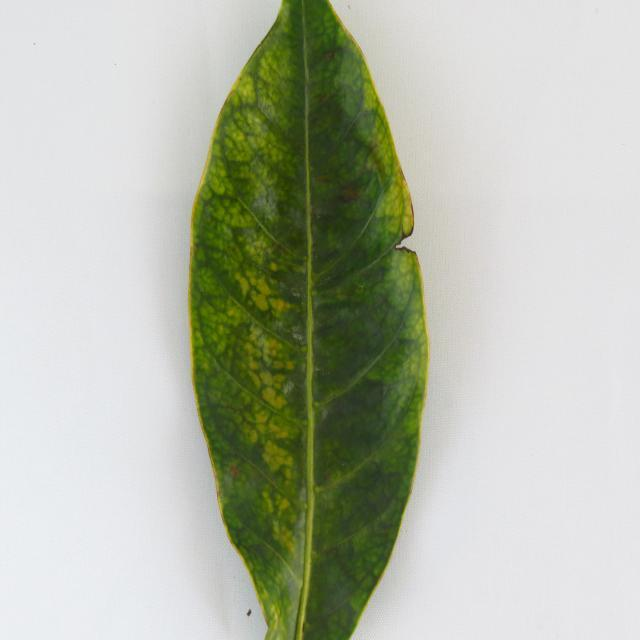DeficienciaNutricional-Manganeso: (189, 0, 429, 638)
